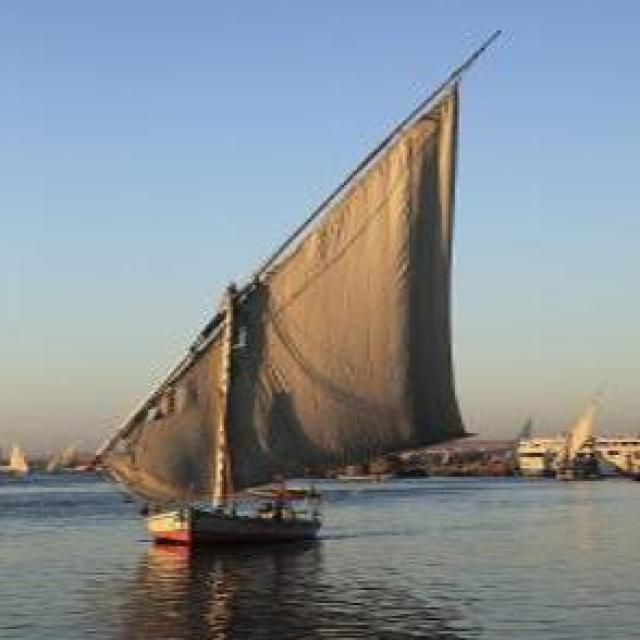sailboat: (112, 16, 498, 552)
